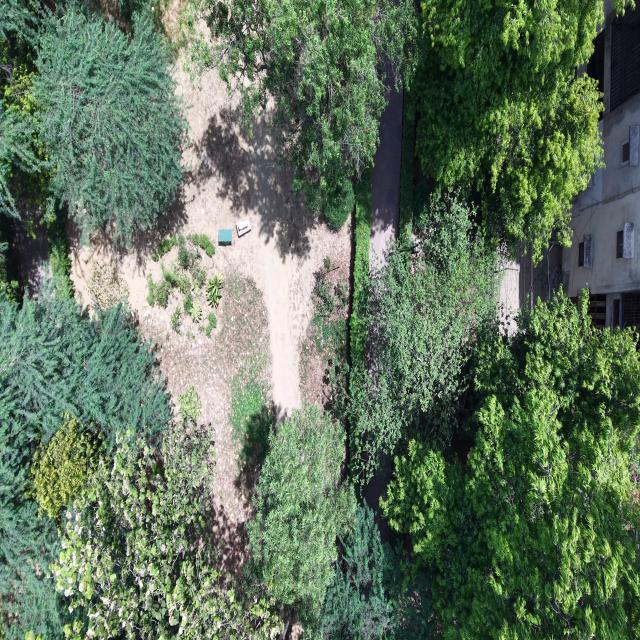DRY_AREA: (69, 64, 350, 567), (370, 70, 403, 268), (370, 74, 403, 269)
VEGETATION_TREE: (0, 0, 639, 639), (0, 283, 639, 639), (0, 233, 393, 638), (0, 283, 416, 638), (312, 250, 639, 638), (352, 206, 639, 637), (190, 0, 603, 258), (0, 281, 283, 639), (366, 293, 639, 638), (383, 292, 639, 638), (0, 281, 170, 639), (191, 0, 418, 226), (411, 0, 603, 259), (230, 388, 427, 638), (53, 429, 280, 639), (238, 395, 432, 639), (0, 0, 186, 243), (242, 405, 432, 639), (350, 190, 498, 481), (229, 312, 355, 636), (33, 5, 186, 243), (0, 281, 170, 446), (247, 405, 354, 630), (386, 188, 497, 339), (319, 505, 436, 639), (0, 424, 68, 639), (217, 275, 279, 505), (315, 171, 371, 423), (0, 0, 47, 300), (0, 0, 50, 218), (0, 0, 46, 217), (321, 506, 395, 639), (302, 258, 357, 423), (301, 256, 349, 419), (30, 415, 101, 520), (228, 370, 276, 498), (384, 541, 438, 639), (147, 235, 206, 323), (0, 101, 39, 216), (349, 171, 371, 368), (229, 371, 270, 467), (399, 92, 416, 241), (47, 211, 74, 298), (313, 256, 347, 317), (147, 264, 190, 308), (0, 0, 39, 46), (88, 264, 128, 308), (0, 221, 19, 301), (177, 235, 205, 288), (178, 386, 202, 426), (151, 235, 177, 262), (187, 233, 215, 257), (205, 272, 224, 307), (170, 305, 182, 332), (188, 302, 203, 323), (204, 312, 216, 337), (183, 291, 194, 316)
